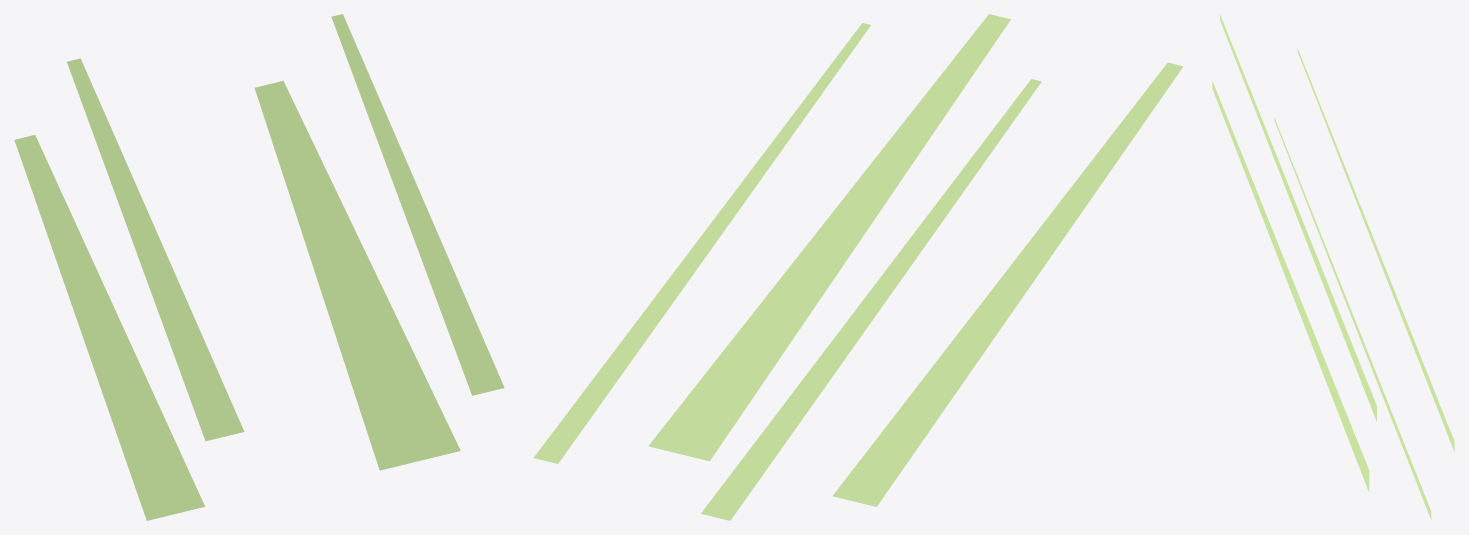
The model's file is forest-canopy-sunbeams.glb.
3 renders of one model, left to right at view 1: azimuth 30°, elevation 25°; view 2: azimuth 150°, elevation 25°; view 3: azimuth 270°, elevation 25°, orthographic. The views are drawn at different scales.
Visible parts, largest first — view 1: Canopy sunbeams; view 2: Canopy sunbeams; view 3: Canopy sunbeams.
Part boxes in pixels (<box>): Canopy sunbeams: <box>14,14,504,520</box>; Canopy sunbeams: <box>534,14,1183,520</box>; Canopy sunbeams: <box>1212,14,1454,519</box>.
Bounding box in the file's own units: 116 × 90 × 62.5.
1 material, 1 textured.
